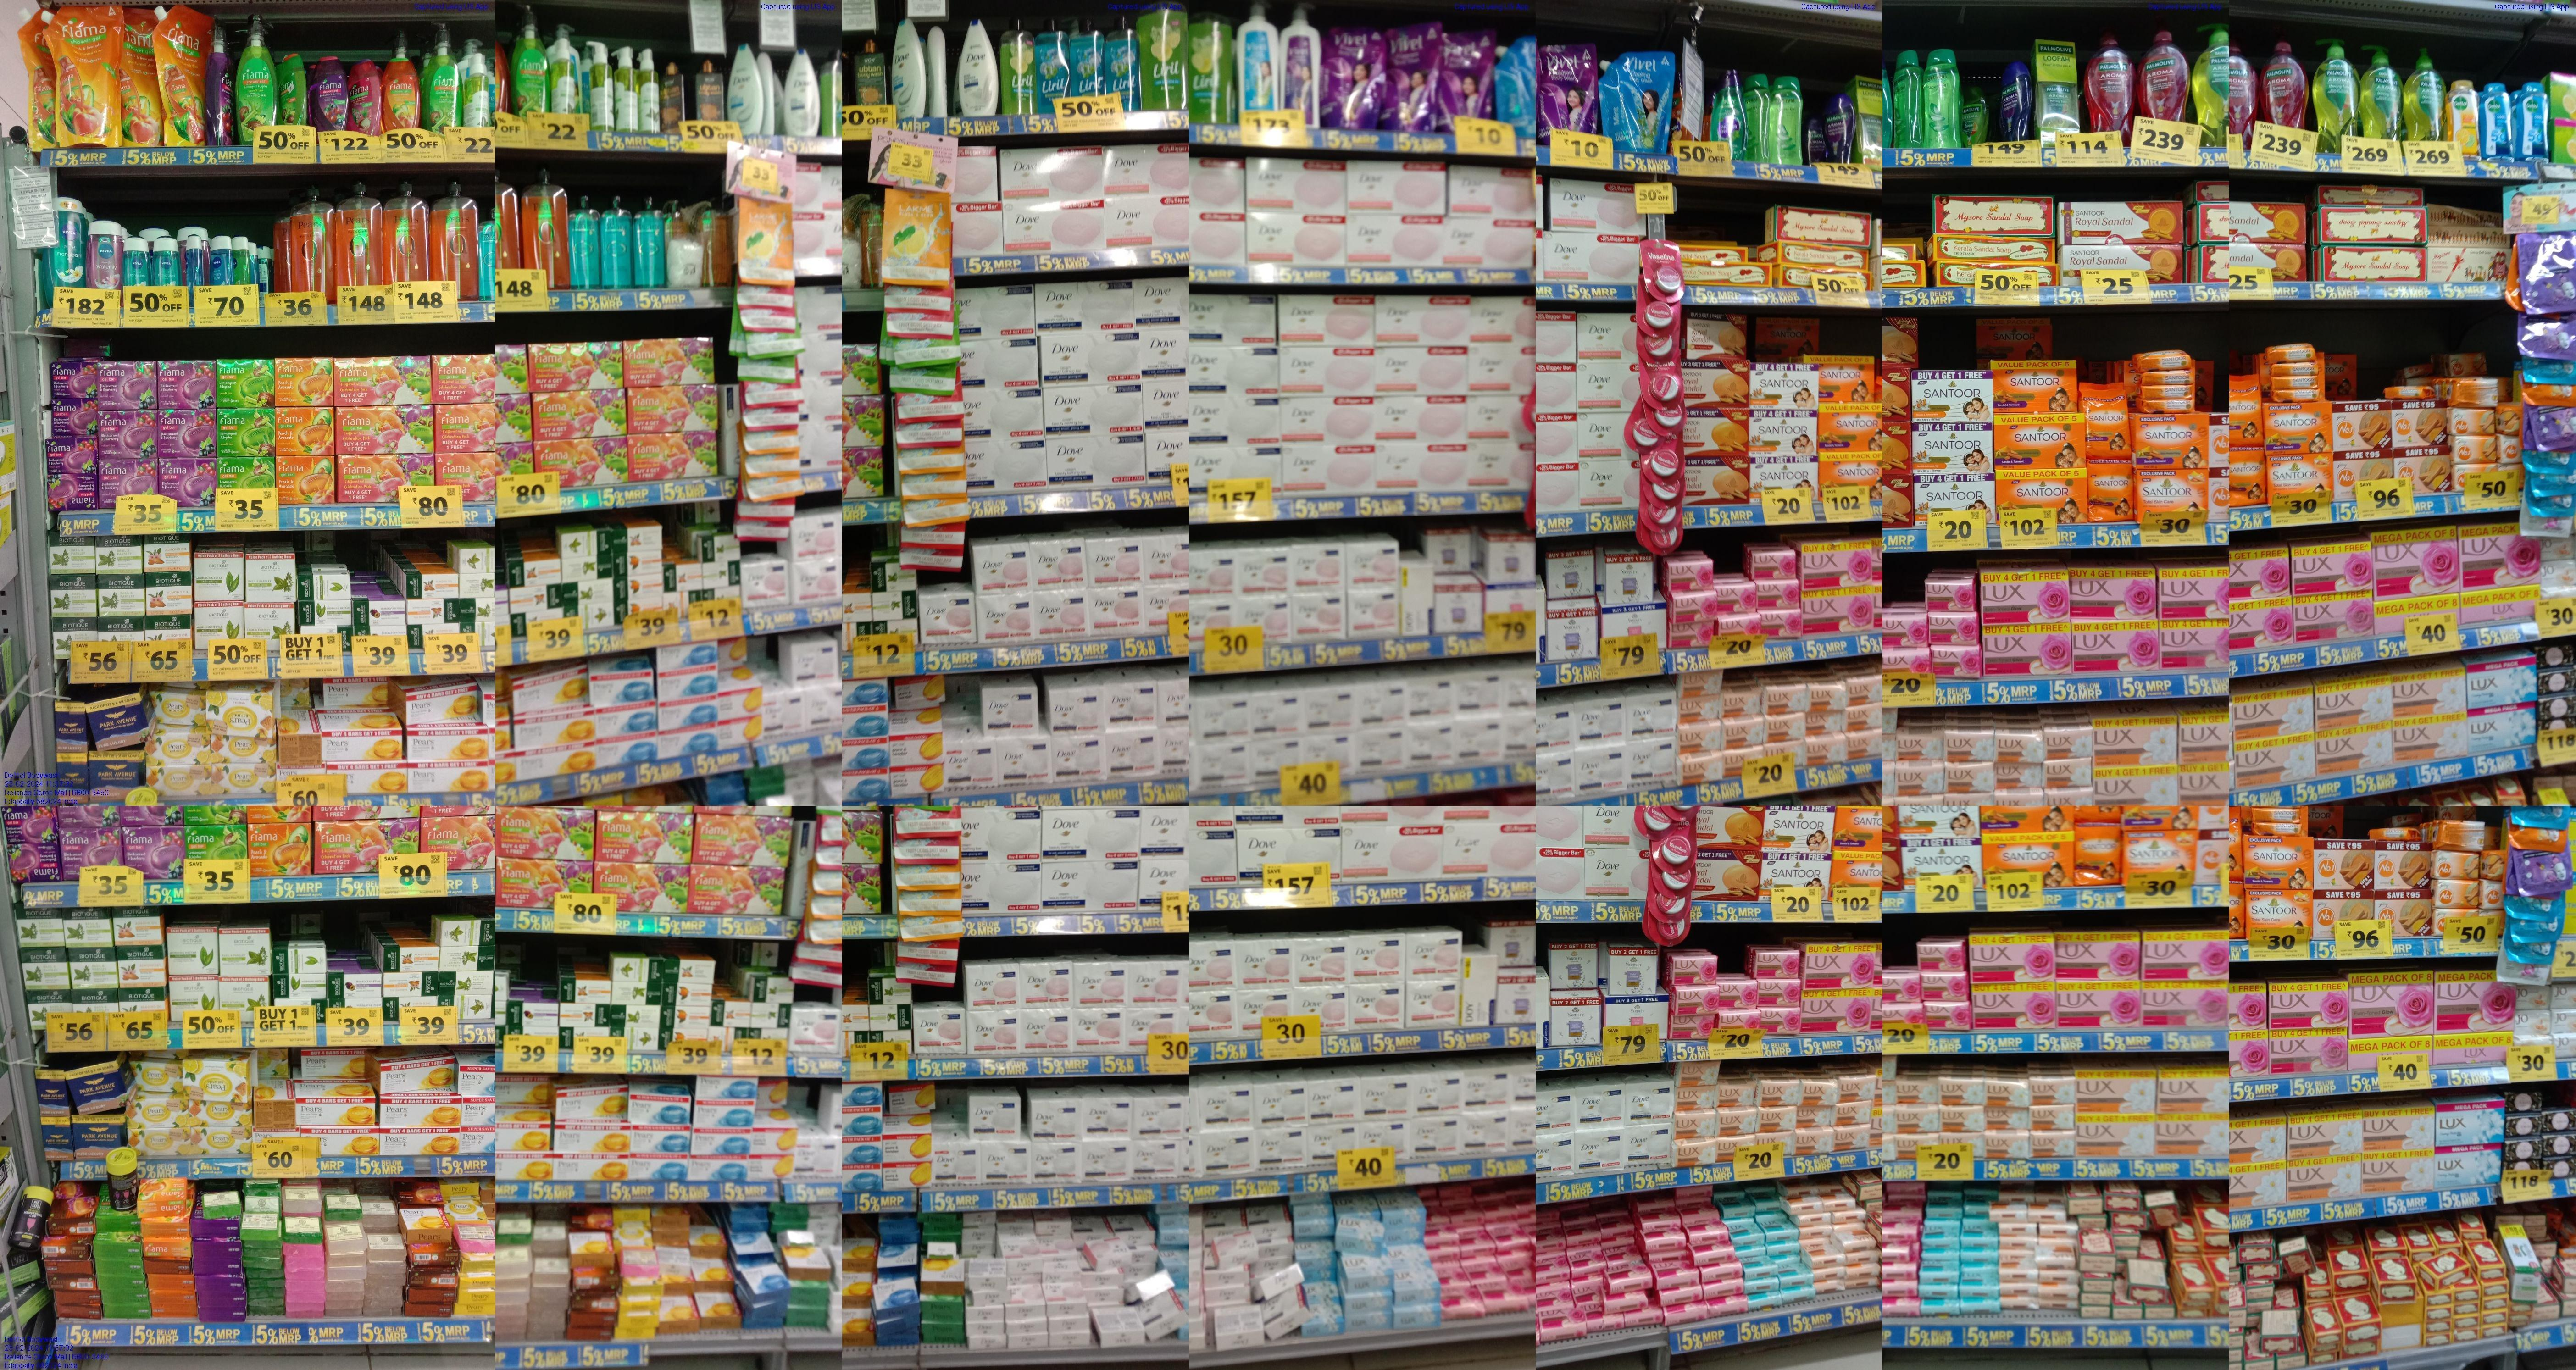Dettol_Bodywash_Cool: (2481, 82, 2511, 158), (2520, 82, 2549, 160)
Dettol_Bodywash_Refresh: (2447, 78, 2479, 157)
Dove_Deep_Moisture_Body_Wash_250ML: (957, 20, 998, 116), (784, 48, 819, 138)
Dove_Gentle_Exfoliating_Body_Wash_250ML: (893, 20, 925, 118), (729, 43, 763, 135)
Fiama_Shower_Gel_Patchouli_and_Macadamia_250ML: (351, 60, 382, 135)
Nivea_Shower_Gel_Frangipani_and_Oil_250ML: (43, 196, 85, 307)
Nivea_Shower_Gel_Waterlily_and_Oil_250ML: (87, 222, 123, 291)
Palmolive_Aroma_Relax_250ML: (1821, 94, 1854, 167)
Palmolive_Coconut_Joy_Exfoliating_Body_Wash_250ML: (1712, 70, 1750, 157)
